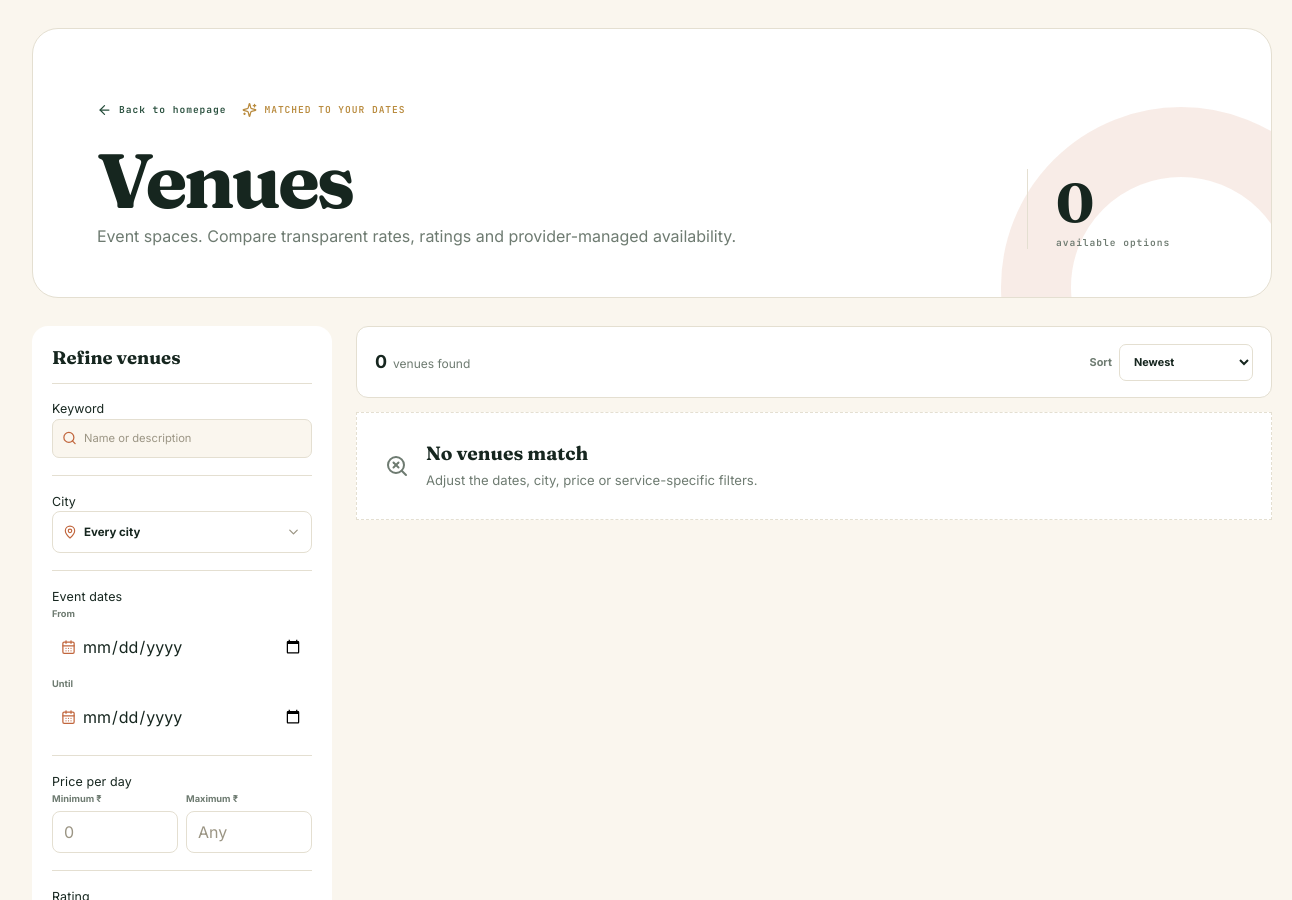
it: ServiceListPage › keeps keyword searches in the results URL
Type "garden" into the search field named "Search services by keyword". click: (193,438)
box: [84,430,302,447]
(page scrolled)
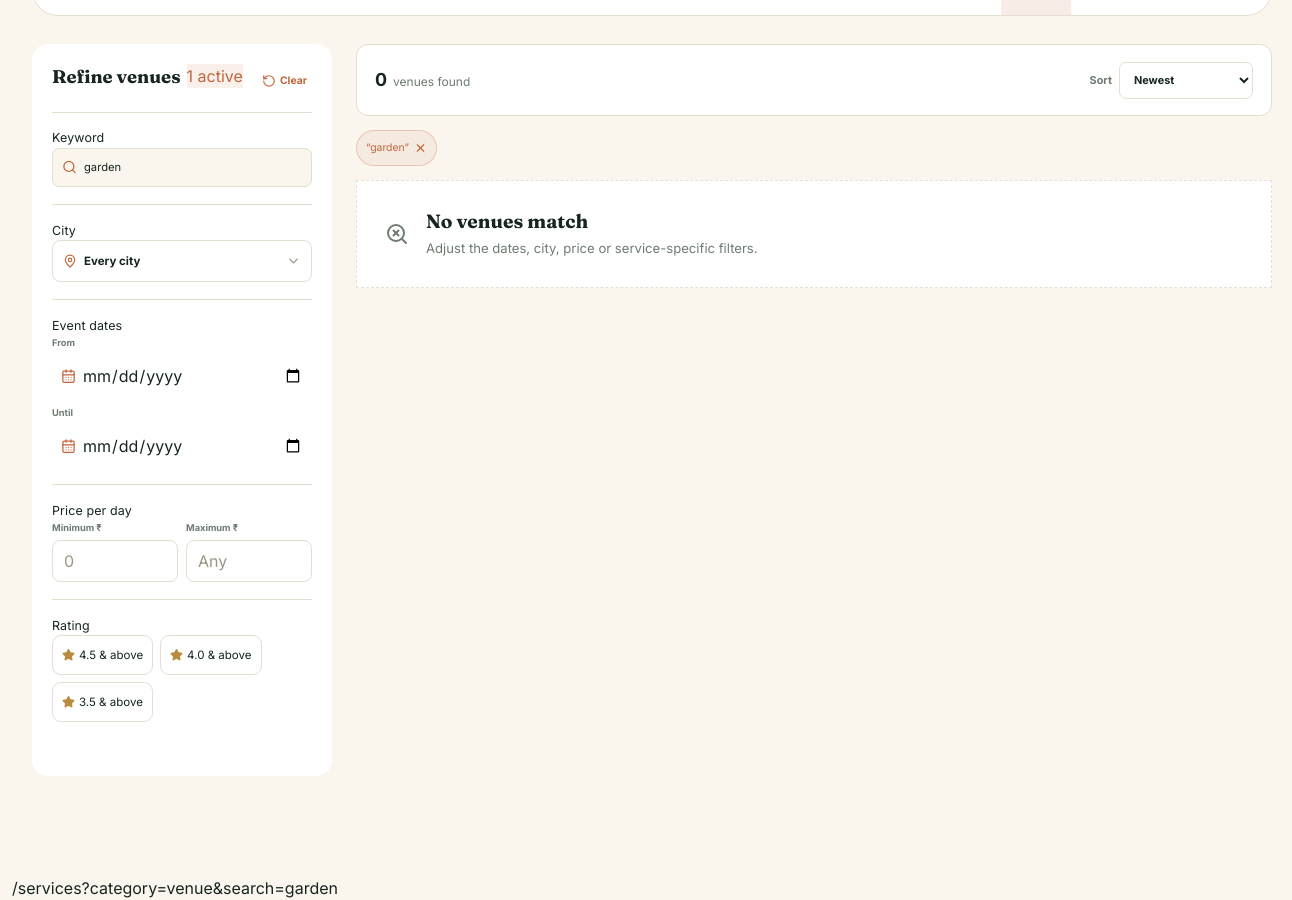
Expected: the text with test id "current-location" shows "search=garden", [82,878,338,898]
